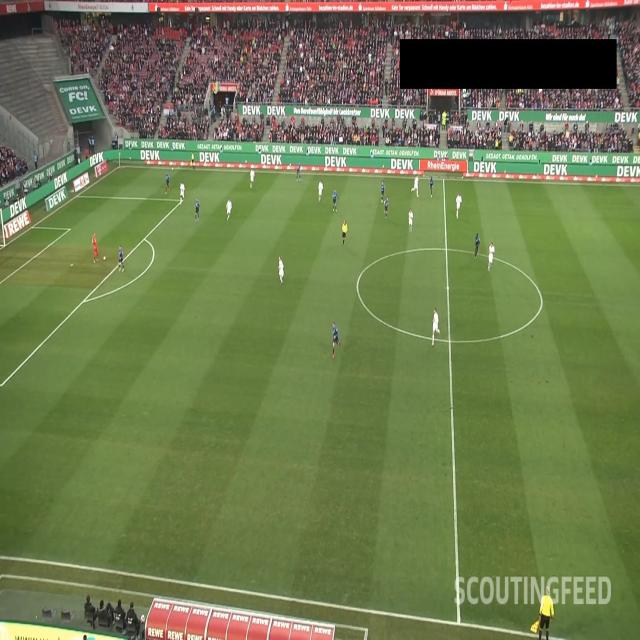ball: (103, 255, 106, 261)
